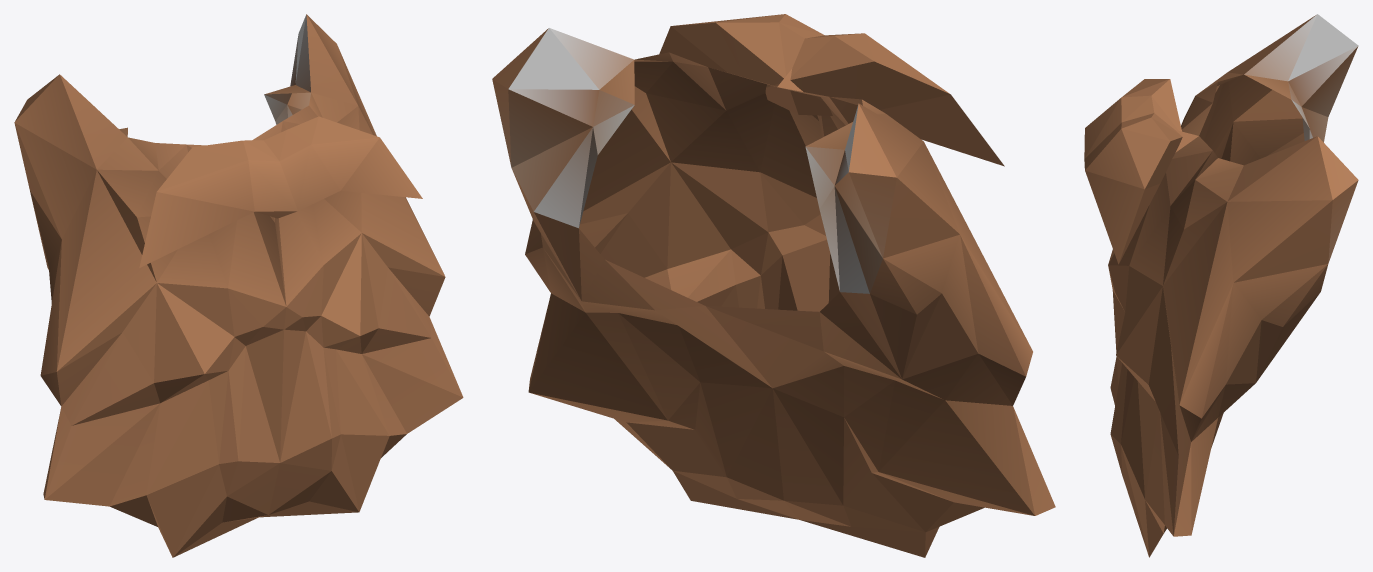
Rendered from beard_big.fbx.
The picture shows the model from 3 angles, left to right: view 1: azimuth 30°, elevation 25°; view 2: azimuth 150°, elevation 25°; view 3: azimuth 270°, elevation 25°; orthographic projection. The views are drawn at different scales.
Parts seen in each view (by area): view 1: Beard_big; view 2: Beard_big; view 3: Beard_big.
Part boxes in pixels (x1=…): Beard_big: x1=14, y1=14, x2=463, y2=557; Beard_big: x1=492, y1=14, x2=1055, y2=557; Beard_big: x1=1084, y1=14, x2=1358, y2=557.
Bounding box in the file's own units: 0.4305 × 0.4226 × 0.2405.
